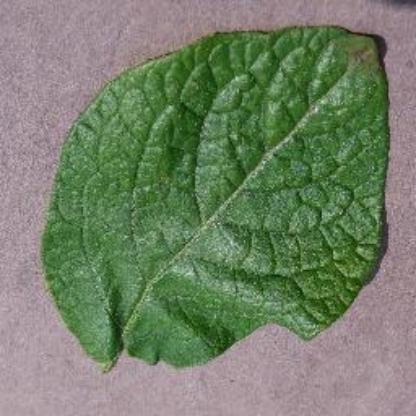Healthy-plant: (40, 22, 392, 372)
